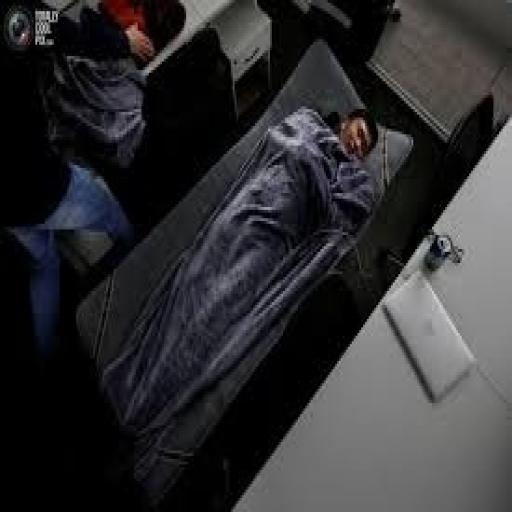sleeping: (72, 98, 386, 506)
